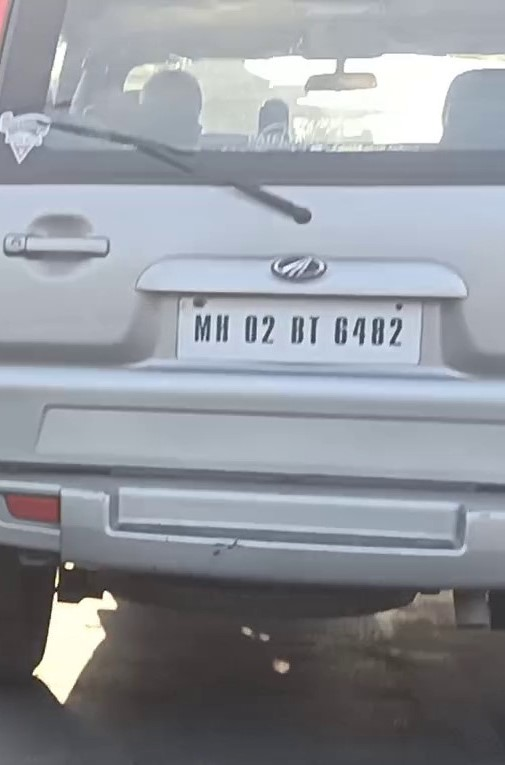MH02BT6482: (175, 293, 422, 365)
